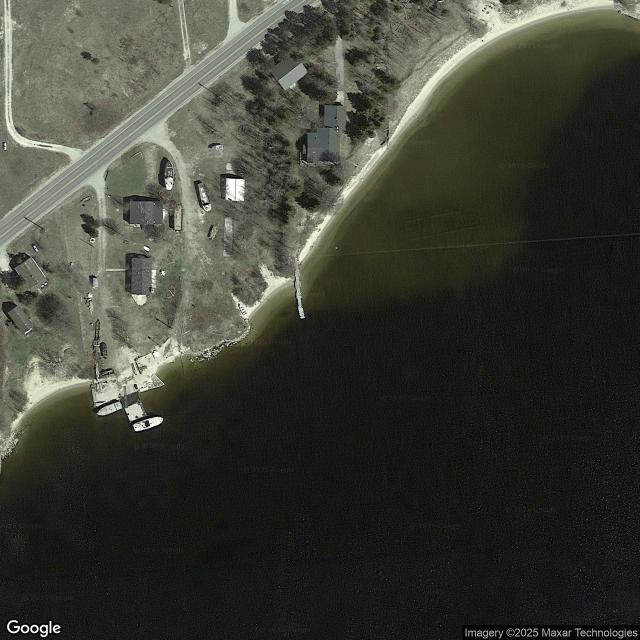Propane: (32, 244, 39, 252), (3, 142, 7, 151)
